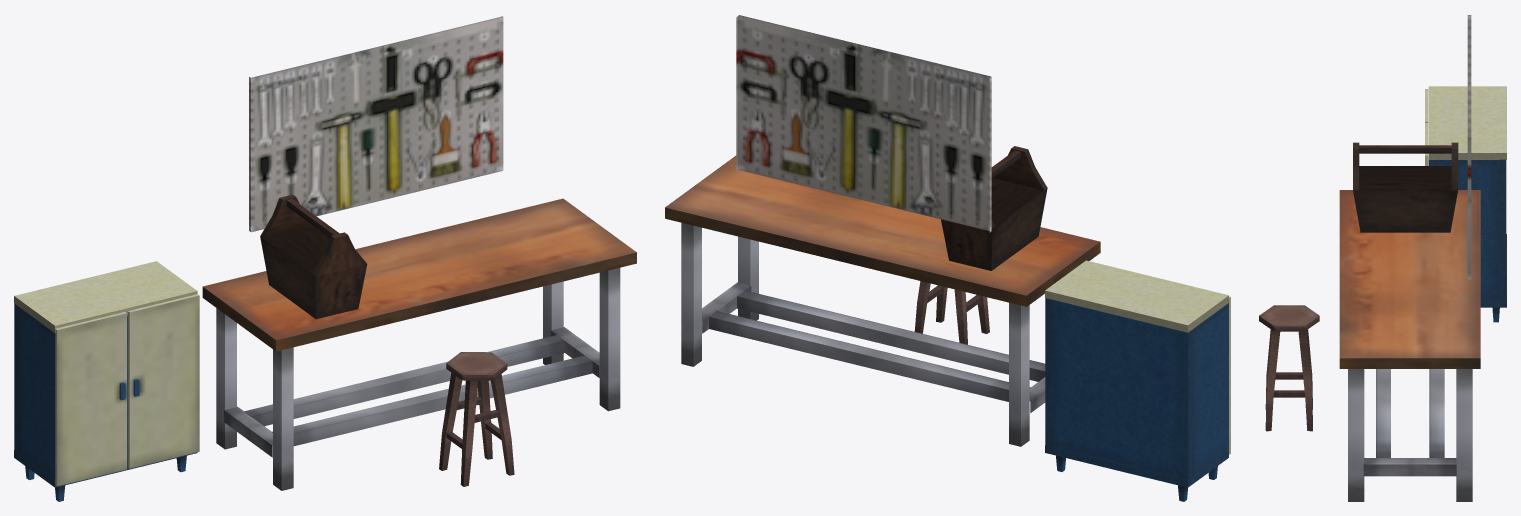
Rendered from PropsManutenção.fbx.
The picture shows the model from 3 angles, left to right: view 1: azimuth 30°, elevation 25°; view 2: azimuth 150°, elevation 25°; view 3: azimuth 270°, elevation 25°; orthographic projection. The views are drawn at different scales.
Parts seen in each view (by area): view 1: PainelFerramentas, Cube, Cube.001, Cube.003, Cube.007, Cube.005, Cube.002, Cylinder.001, Cylinder; view 2: PainelFerramentas, Cube.003, Cube, Cube.001, Cube.002, Cylinder.001; view 3: Cube, Cube.003, Cube.001, Cube.002, Cylinder.001, Cylinder, PainelFerramentas.
Part boxes in pixels (left/top/right/bottom): PainelFerramentas: left=249, top=16, right=503, bottom=232; Cube: left=202, top=198, right=636, bottom=351; Cube.001: left=216, top=267, right=620, bottom=490; Cube.003: left=14, top=261, right=197, bottom=501; Cube.007: left=127, top=294, right=199, bottom=468; Cube.005: left=55, top=312, right=126, bottom=486; Cube.002: left=260, top=194, right=367, bottom=319; Cylinder.001: left=439, top=373, right=514, bottom=486; Cylinder: left=446, top=352, right=507, bottom=380; PainelFerramentas: left=736, top=15, right=991, bottom=232; Cube.003: left=1045, top=260, right=1228, bottom=501; Cube: left=665, top=155, right=1100, bottom=306; Cube.001: left=681, top=222, right=1045, bottom=446; Cube.002: left=941, top=146, right=1047, bottom=270; Cylinder.001: left=914, top=281, right=989, bottom=344; Cube: left=1339, top=190, right=1480, bottom=368; Cube.003: left=1428, top=86, right=1506, bottom=322; Cube.001: left=1348, top=369, right=1472, bottom=501; Cube.002: left=1353, top=142, right=1458, bottom=232; Cylinder.001: left=1265, top=329, right=1312, bottom=431; Cylinder: left=1259, top=305, right=1319, bottom=331; PainelFerramentas: left=1467, top=15, right=1471, bottom=279.
Size of the model in its own units: 297 by 192 by 124.
